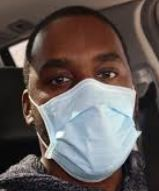with_facemask: (45, 96, 130, 176)
